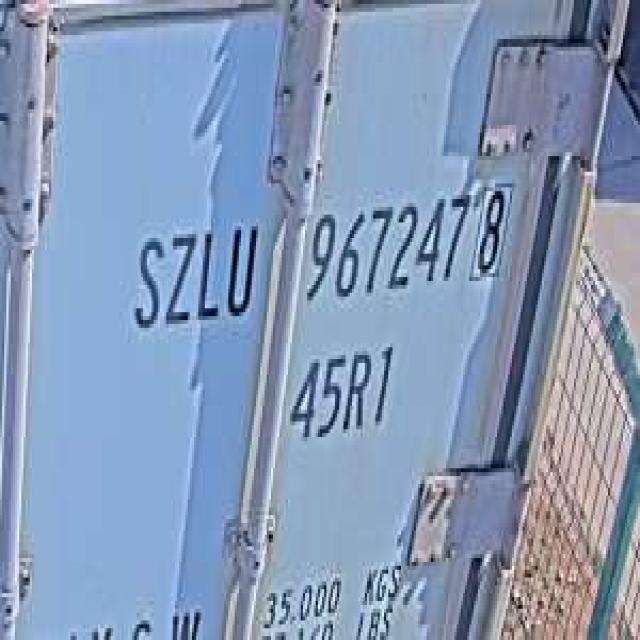dv: (469, 175, 514, 285)
owner: (126, 207, 260, 336)
serial: (299, 180, 469, 308)
size: (284, 336, 401, 448)
